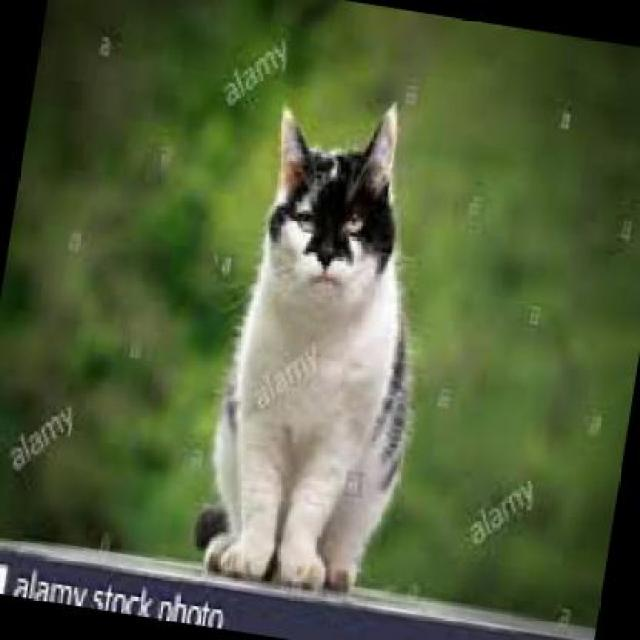animals: (180, 72, 466, 603)
